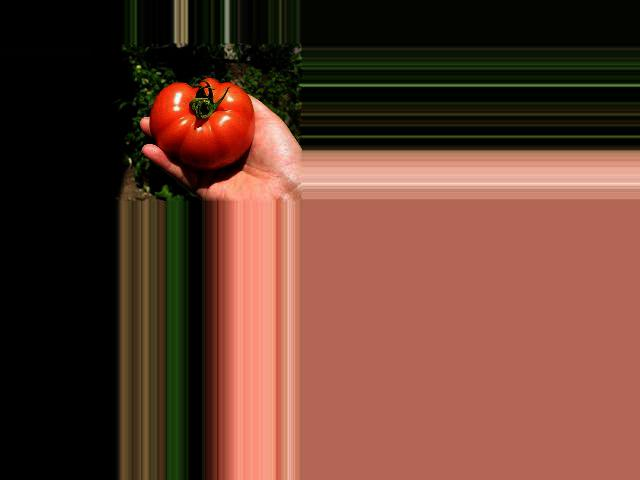tomato: (149, 78, 253, 169)
